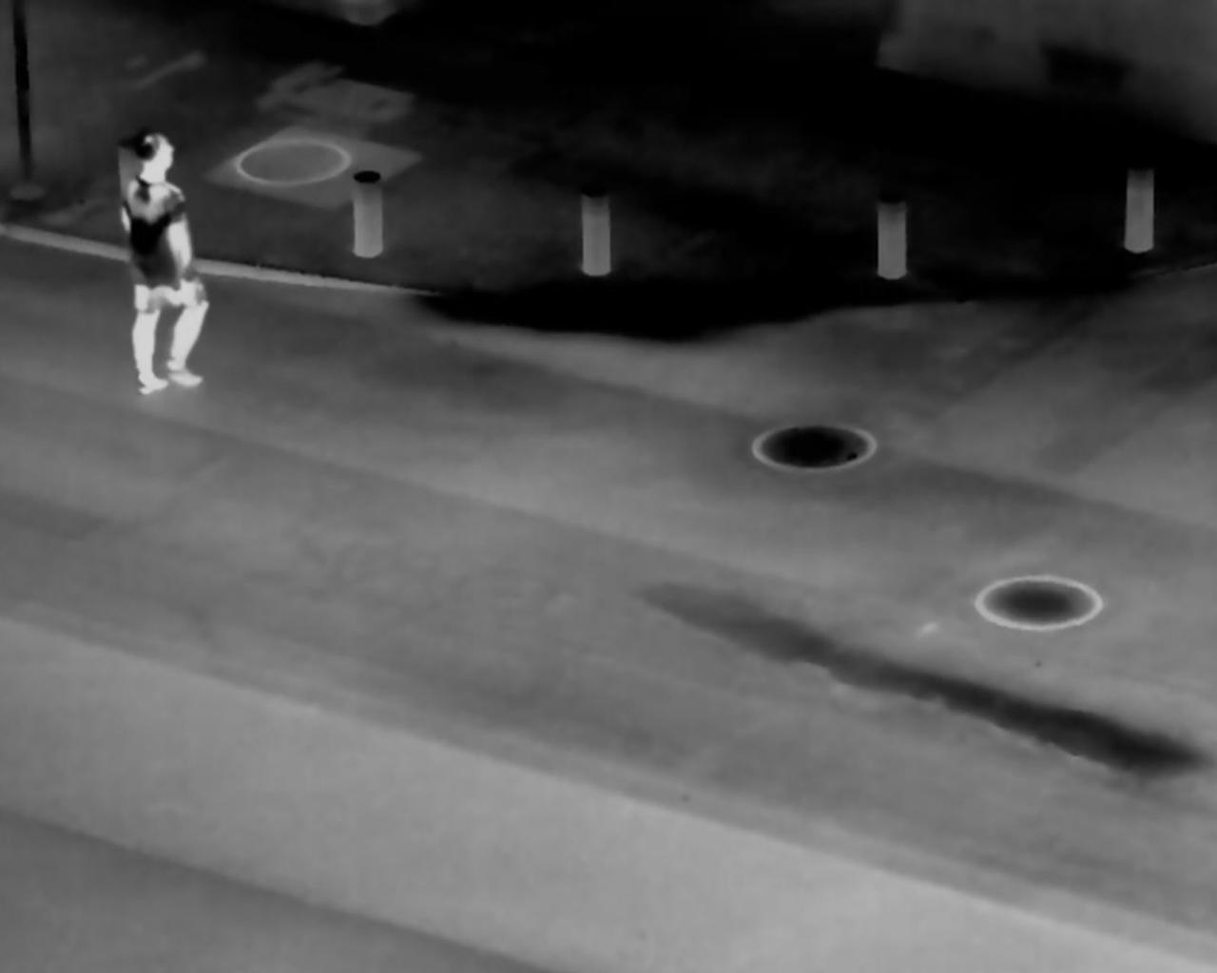person: (114, 131, 210, 396)
